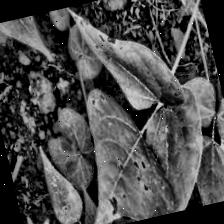ALS: (60, 78, 172, 224), (60, 0, 186, 123), (35, 138, 86, 224)
